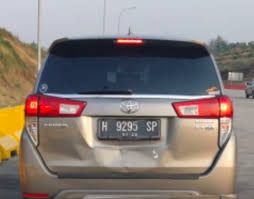plate: (99, 119, 158, 137)
